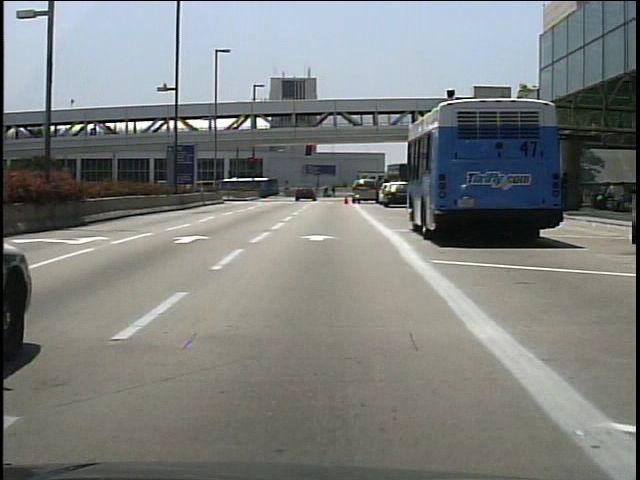person: (594, 182, 616, 210), (322, 186, 334, 200), (564, 175, 565, 210), (334, 185, 335, 200)
